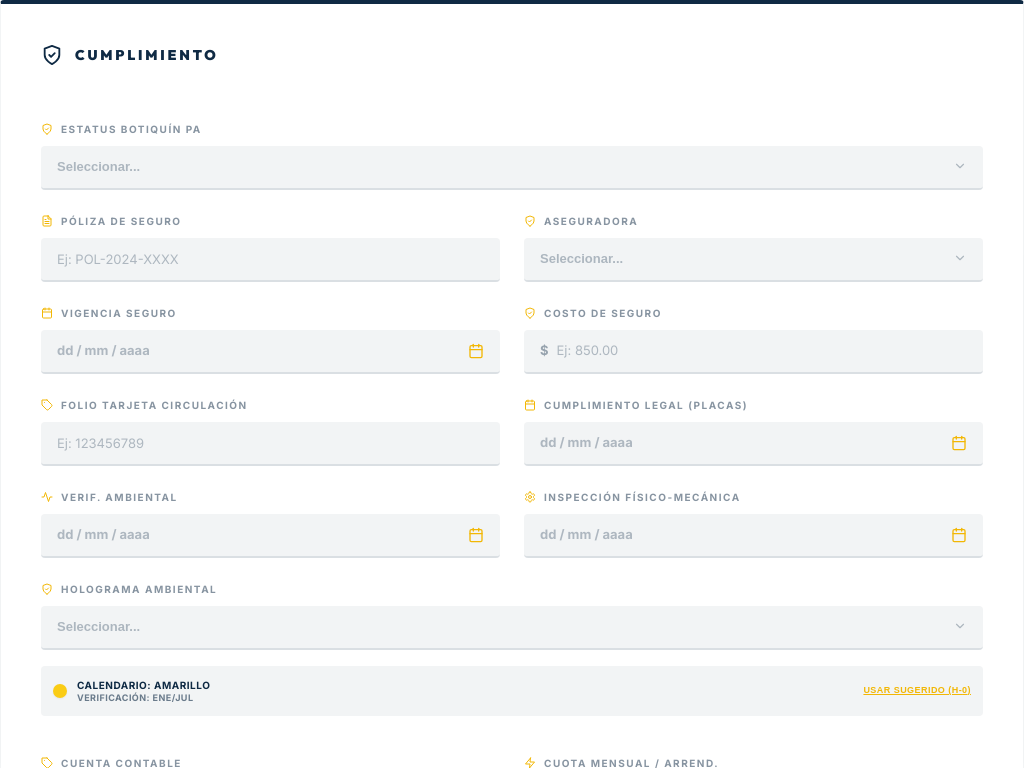
Test: ComplianceSection › selecting an environmental hologram option updates formData
Click the button "Seleccionar..." below "Holograma Ambiental". click: [99, 627]
box: [41,606,983,650]
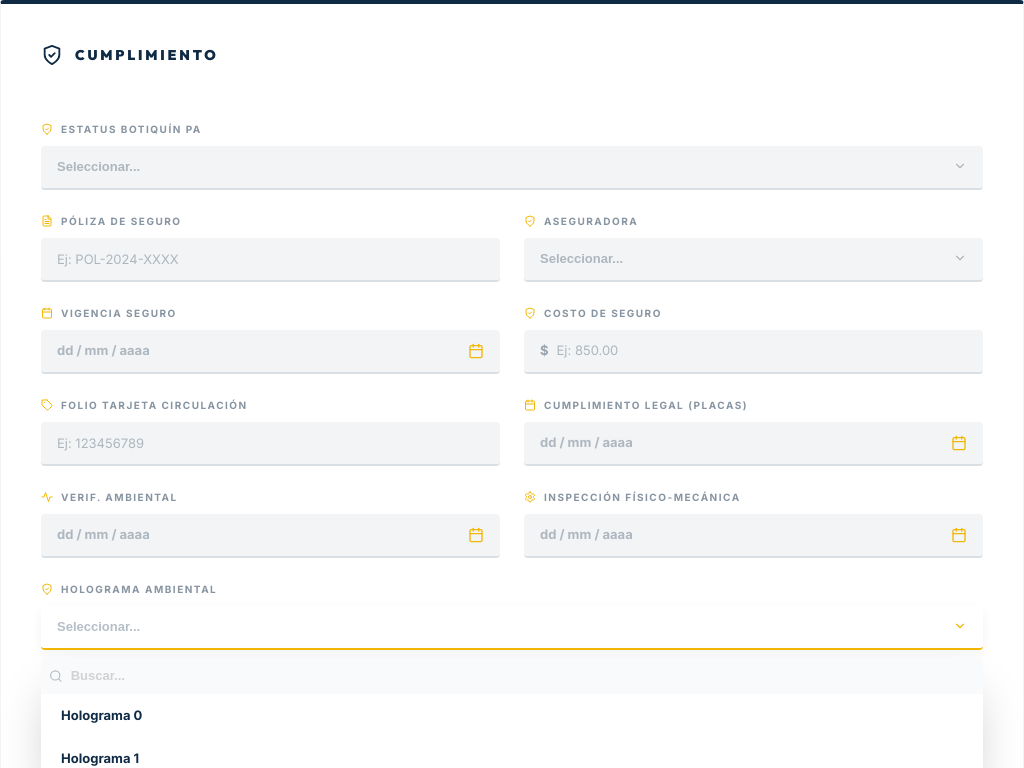
Click the option "Holograma 1". click: [100, 758]
box: [61,750,139,766]
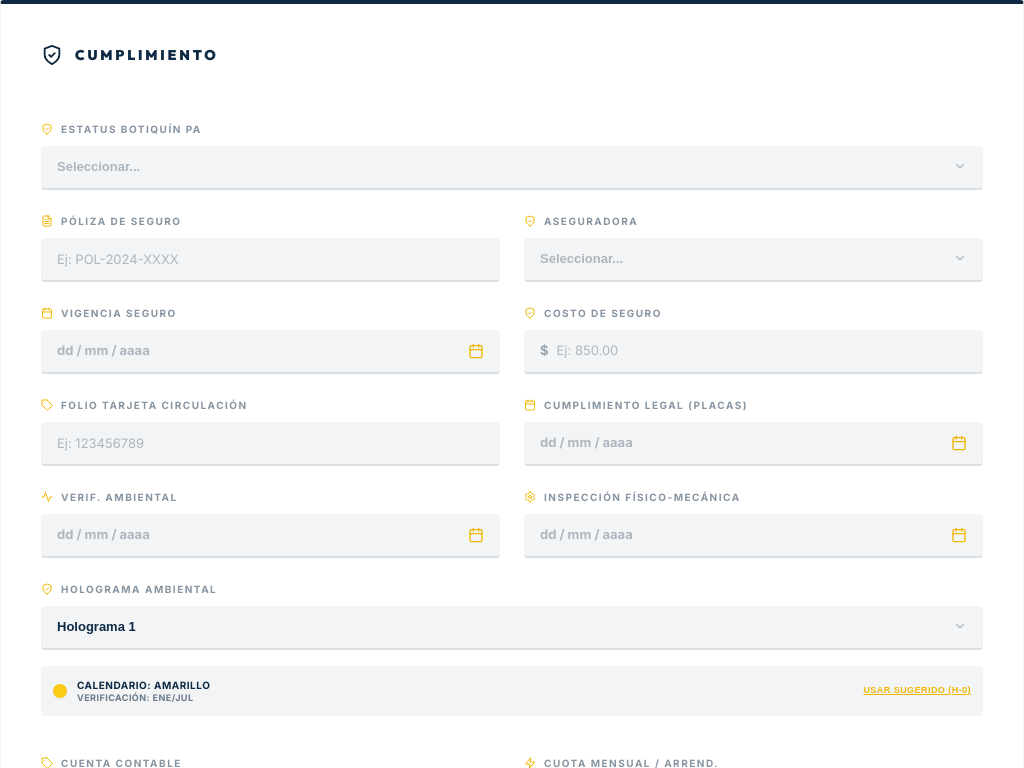
Expected: the text "Holograma 1" is shown, [57,617,136,637]
